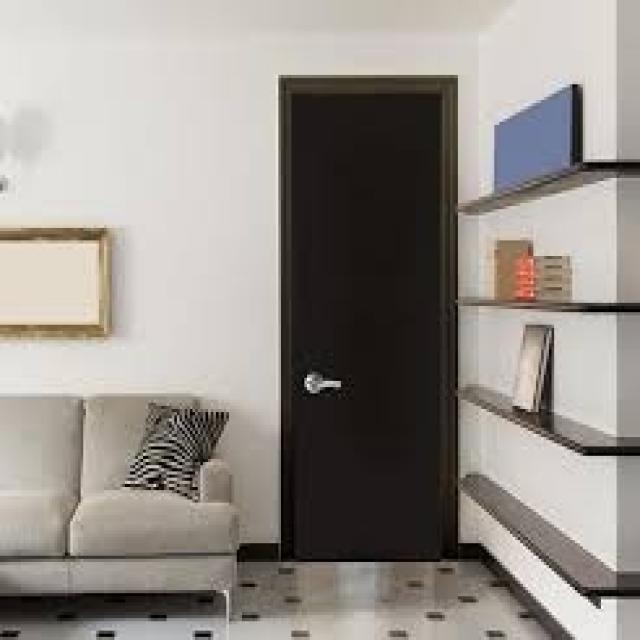door: (279, 75, 456, 562)
